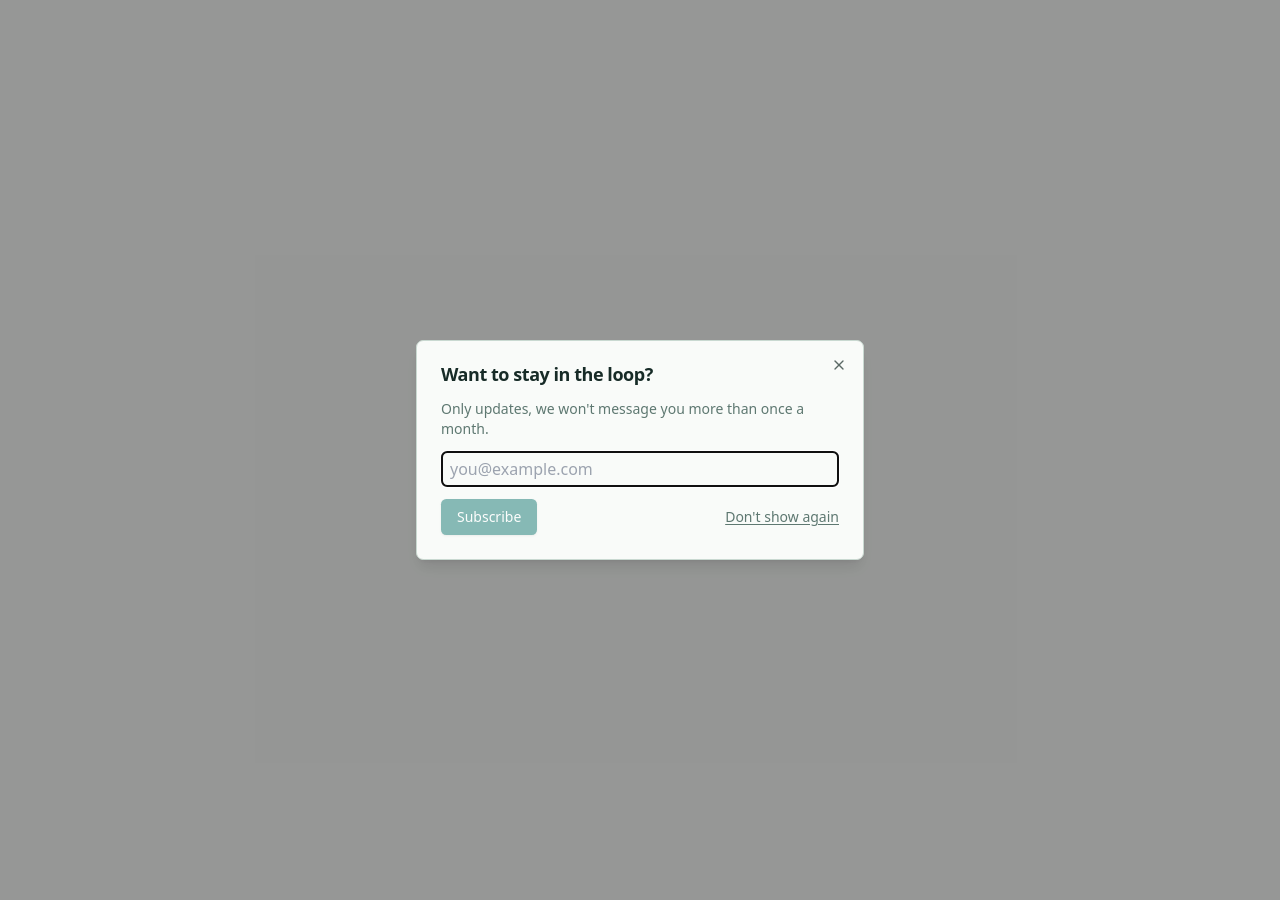
Test: NewsletterDialog › shows an error and keeps the form when the server fails
Type "a@b.com" into the field at (640, 469), box left=441, top=451, right=839, bottom=487
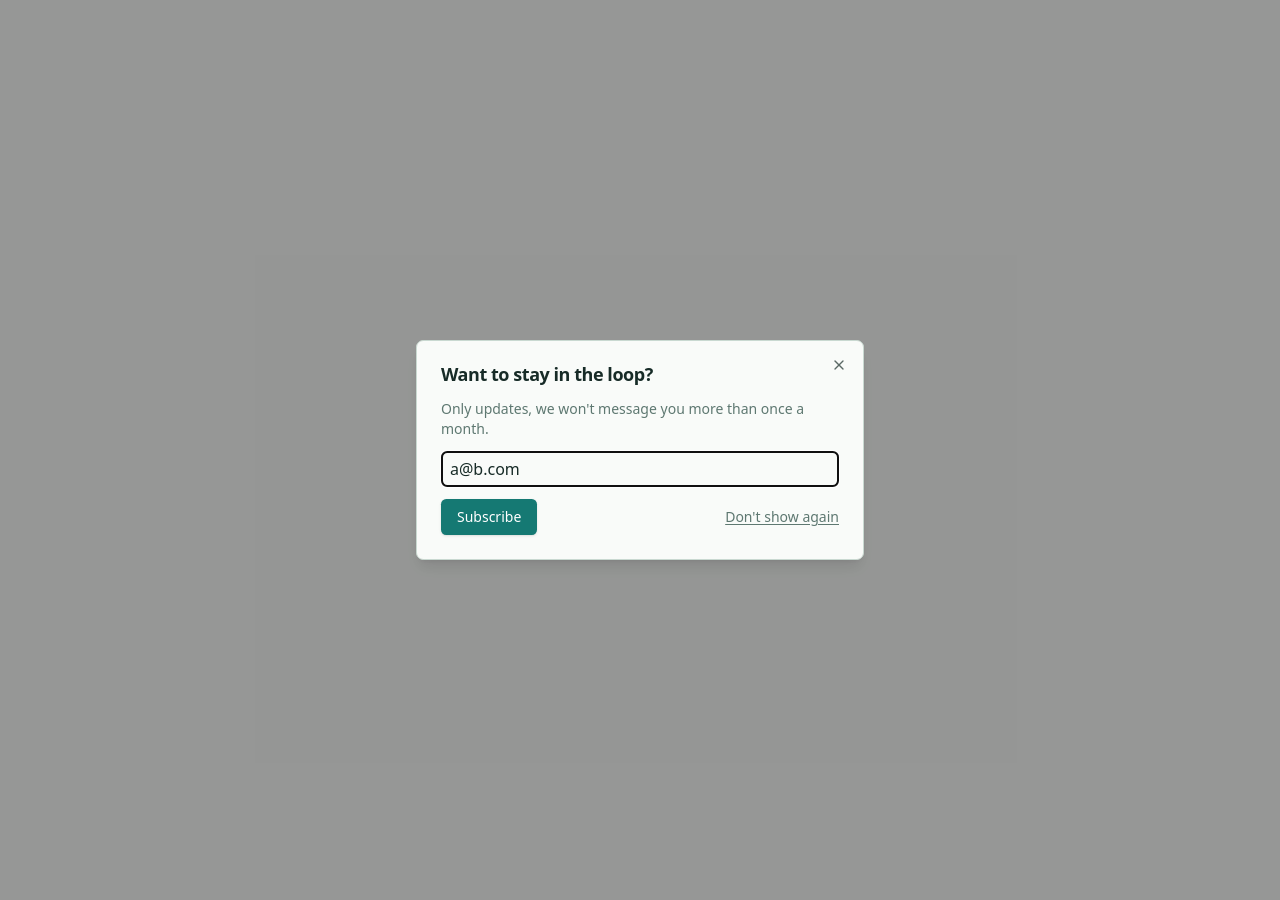
Click the button "Subscribe" at (489, 517), box left=441, top=499, right=537, bottom=535
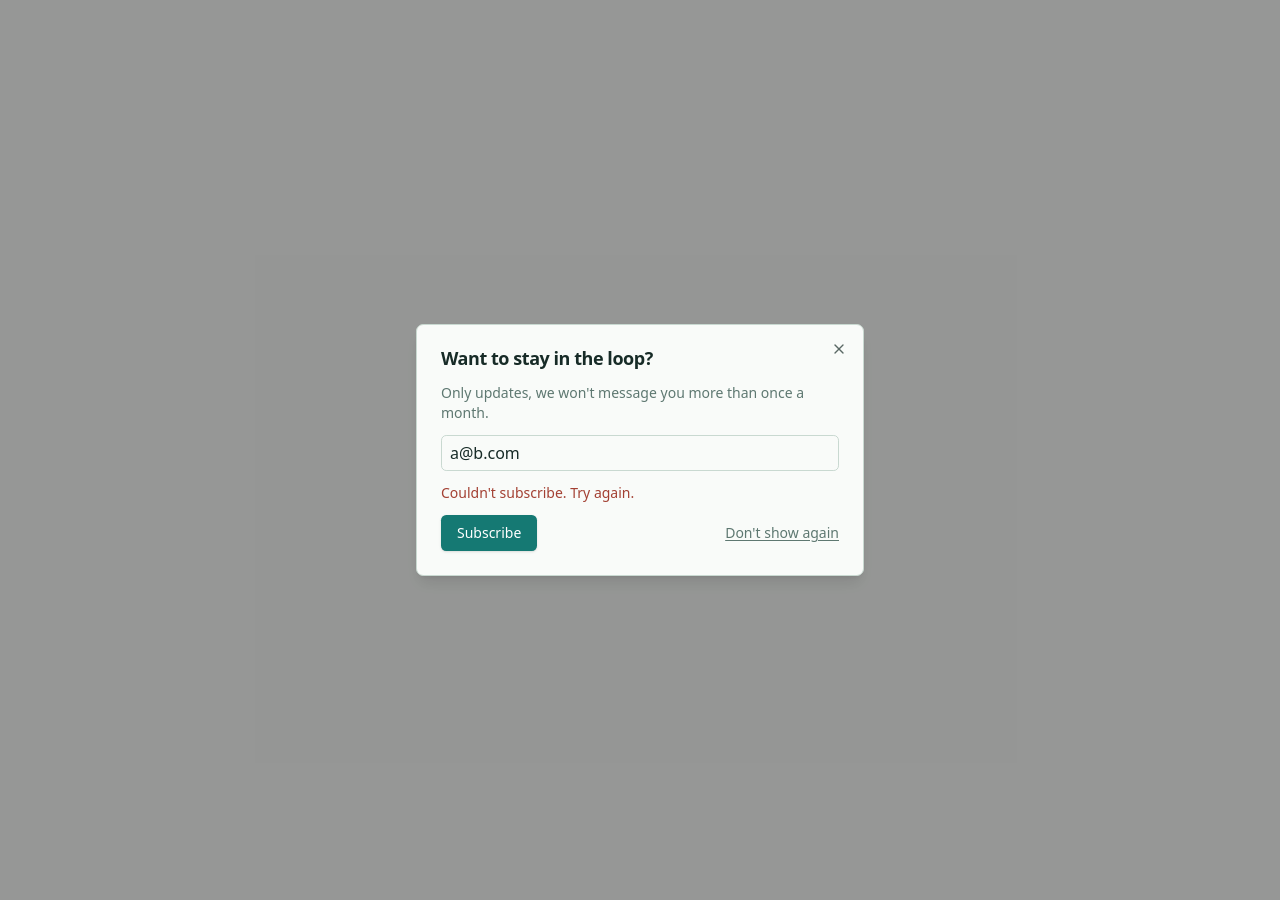
Check: the text "Couldn't subscribe. Try again." is shown, box left=441, top=483, right=634, bottom=502
